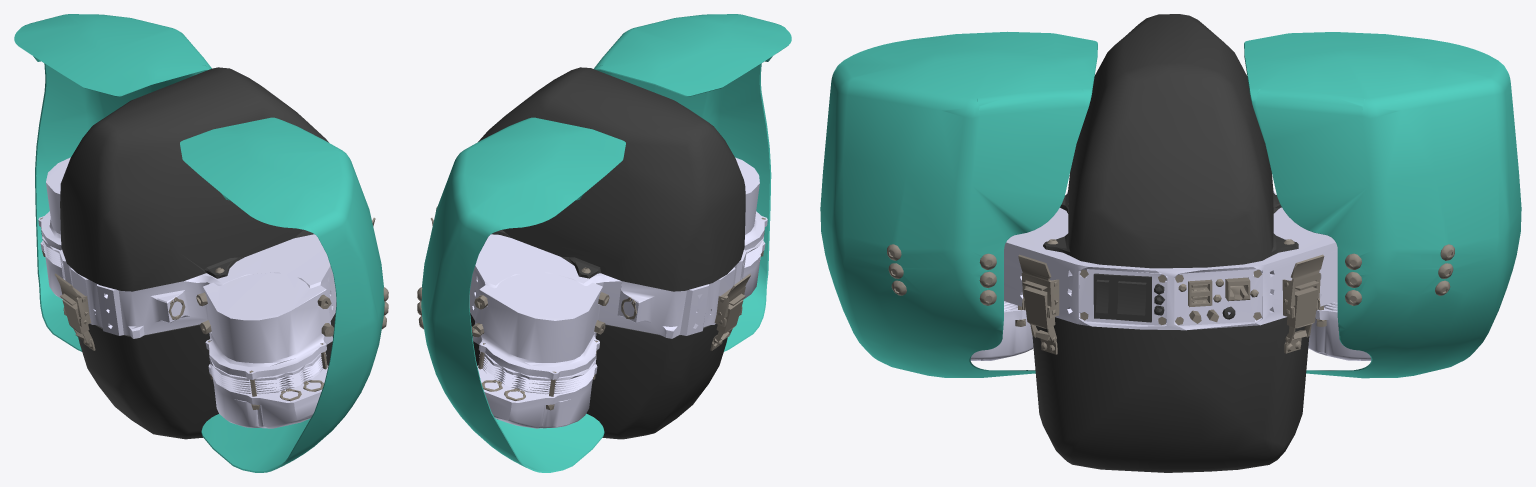
File: cassie-pelvis.obj
The picture shows the model from 3 angles, left to right: view 1: azimuth 30°, elevation 25°; view 2: azimuth 150°, elevation 25°; view 3: azimuth 270°, elevation 25°; orthographic projection. The views are drawn at different scales.
Parts seen in each view (by area): view 1: cassie_pelvis; view 2: cassie_pelvis; view 3: cassie_pelvis.
Part boxes in pixels (x1=…): cassie_pelvis: x1=14, y1=14, x2=388, y2=472; cassie_pelvis: x1=417, y1=14, x2=791, y2=472; cassie_pelvis: x1=820, y1=14, x2=1521, y2=472.
Size of the model in its own units: 0.2692 by 0.2892 by 0.4744.
Materials: 1 (1 with a texture image).
